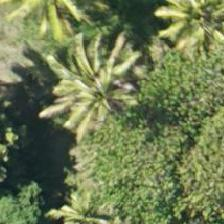coconut_tree: (34, 45, 124, 135), (57, 57, 147, 147), (155, 0, 223, 88), (167, 0, 223, 87), (32, 172, 122, 223)
